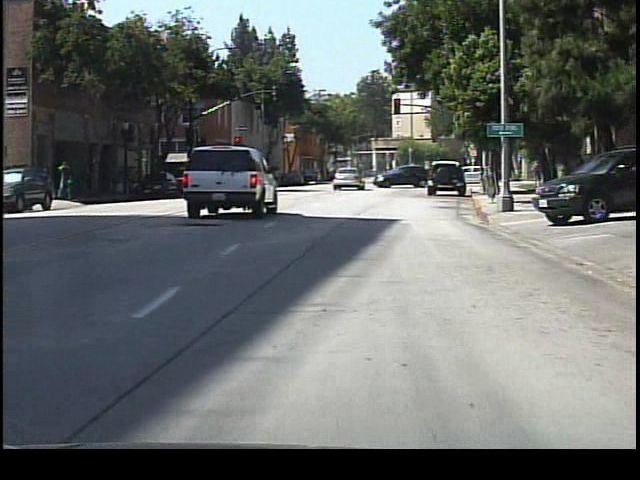person: (56, 157, 79, 204), (326, 162, 343, 188), (480, 155, 496, 182)
